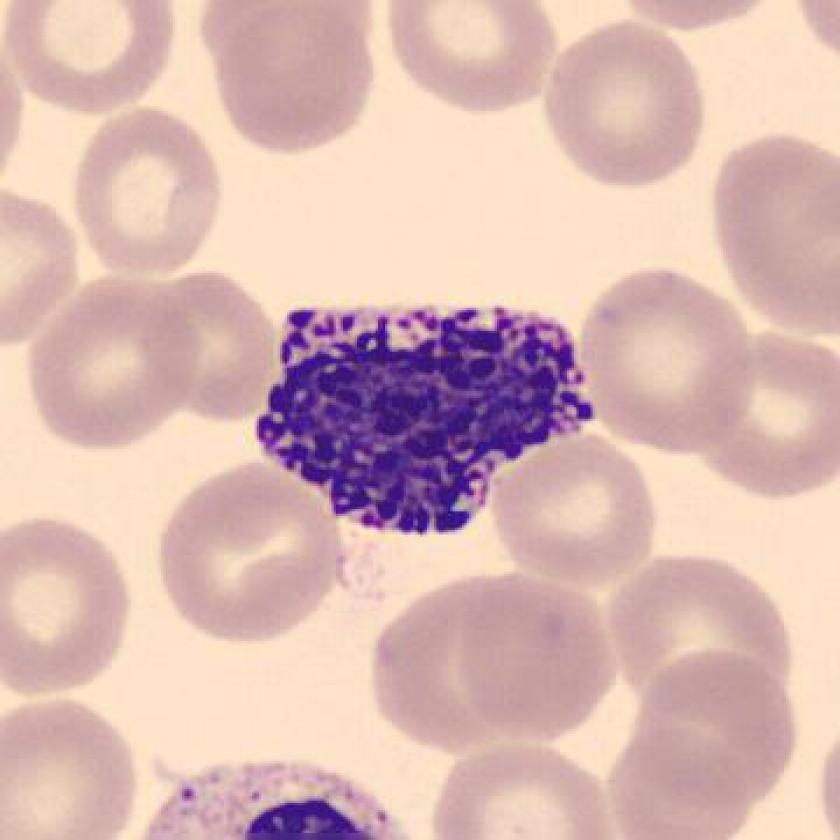basophil: (253, 290, 587, 538)
